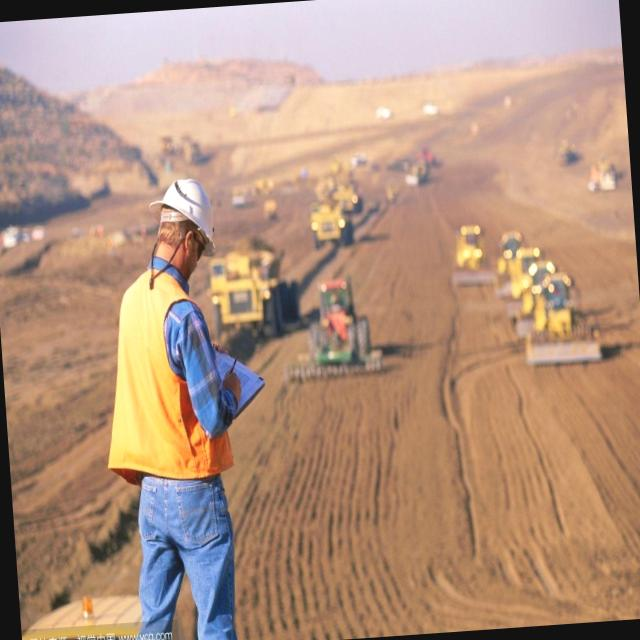helmet: (142, 168, 224, 255)
vest: (95, 259, 233, 487)
